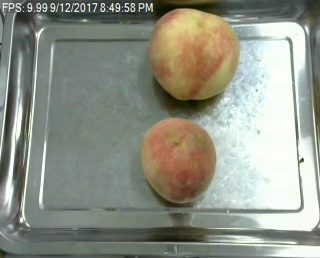Peach: (148, 7, 240, 100), (141, 116, 216, 202)
